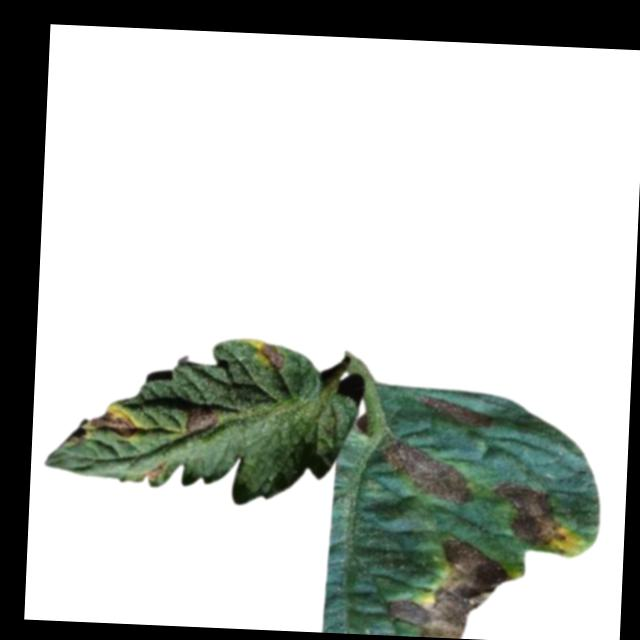Early_blight: (383, 536, 515, 640), (380, 437, 480, 510), (493, 480, 571, 549), (422, 391, 493, 430), (91, 404, 139, 443), (185, 408, 225, 436), (256, 343, 287, 372), (142, 462, 169, 485)
